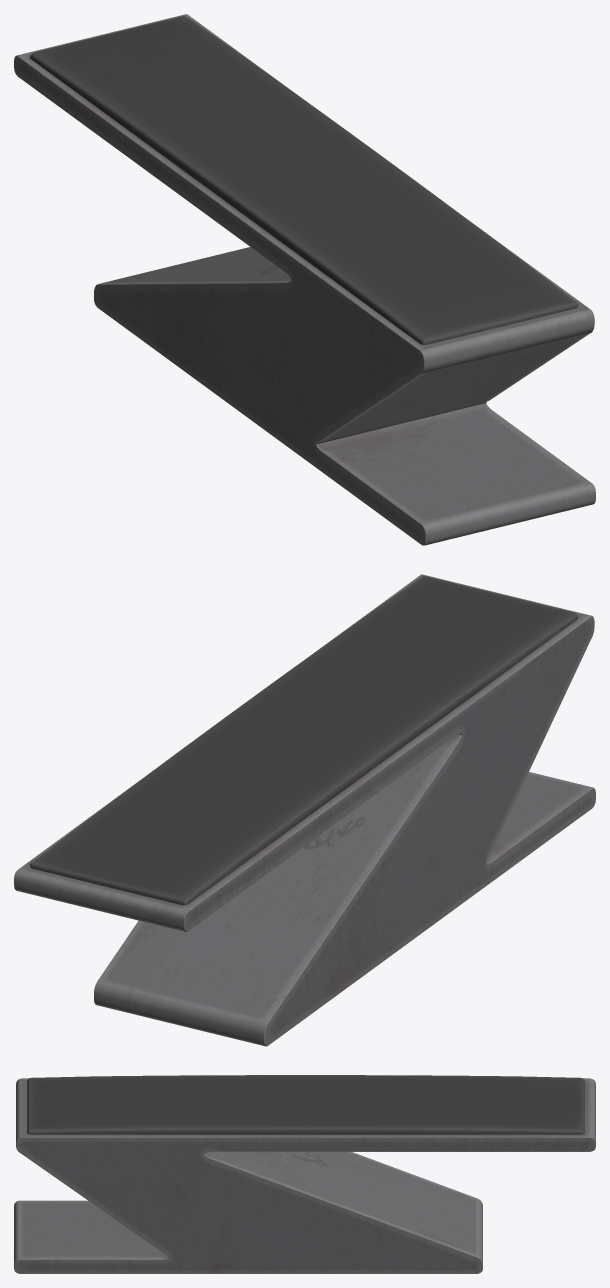
Rendered from SM_Bench_01.fbx.
3 views of the same model, one above another, from view 1: azimuth 30°, elevation 25°; view 2: azimuth 150°, elevation 25°; view 3: azimuth 270°, elevation 25° (orthographic). The views are drawn at different scales.
Visible parts, largest first — view 1: SM_Bench_01; view 2: SM_Bench_01; view 3: SM_Bench_01.
Part boxes in pixels (<box>): SM_Bench_01: <box>14,14,595,545</box>; SM_Bench_01: <box>14,574,595,1046</box>; SM_Bench_01: <box>14,1075,595,1273</box>.
Bounding box in the file's own units: 60 × 250 × 68.06.
Materials: 1 (1 with a texture image).
